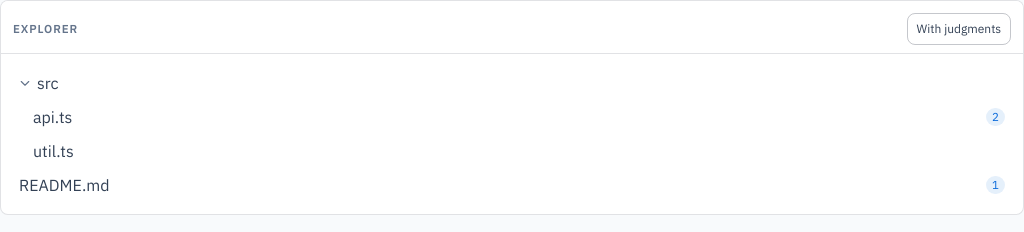
it: Explorer › filters the tree to files that have judgments
Click the button "With judgments" at (959, 29), box 907,13 -> 1011,45
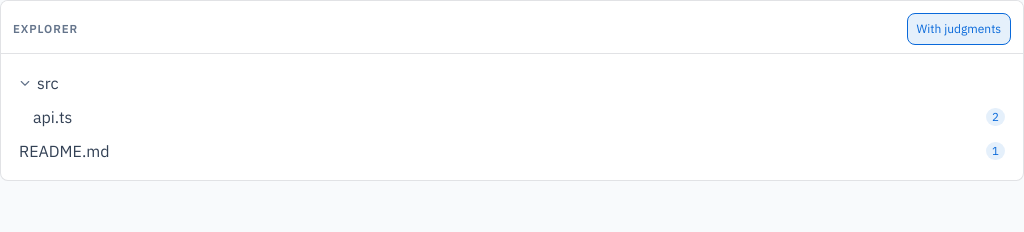
Expected: the text "api.ts" is shown, 33,107 -> 72,127
Now the button "util.ts" is gone
